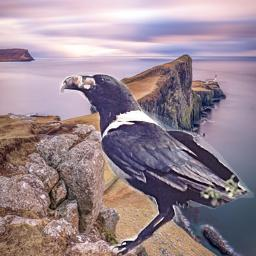Crow: (59, 72, 254, 255)
